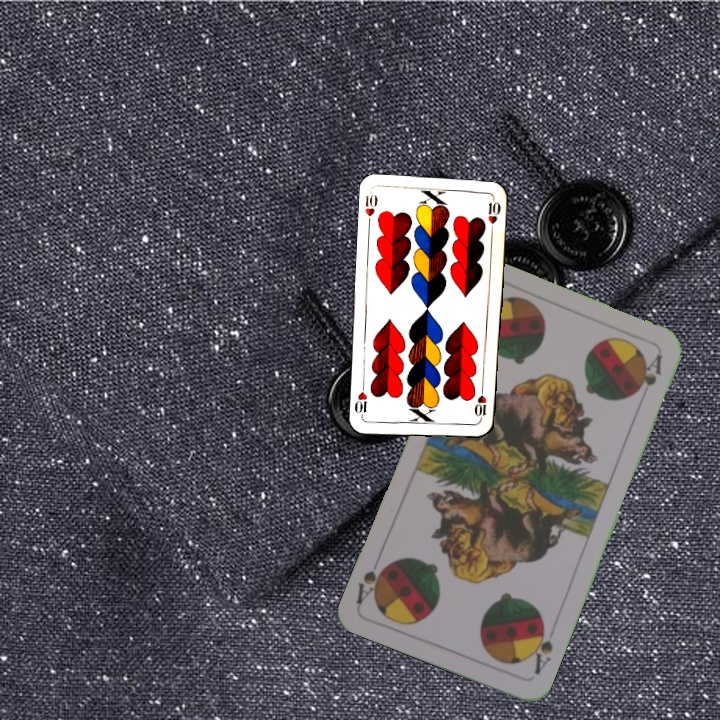H10: (361, 189, 380, 229), (472, 383, 489, 423)
SA: (524, 618, 556, 678)
